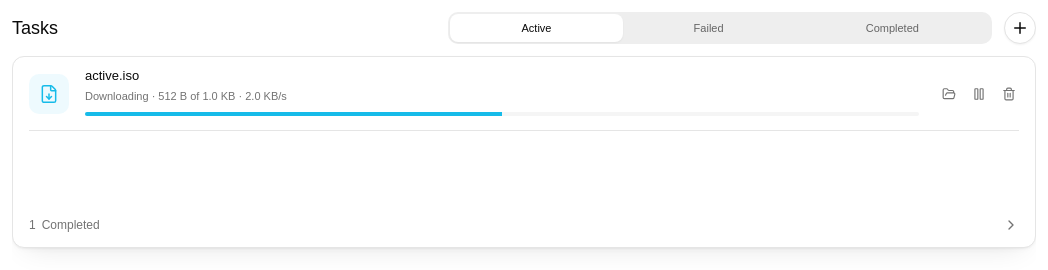
Scenario: ControlPanel task views › shows localized reveal failure copy without exposing the RPC error
Step 1. Click the button with test id "task-reveal-active-1" → [949, 94], box [935,80,963,108]
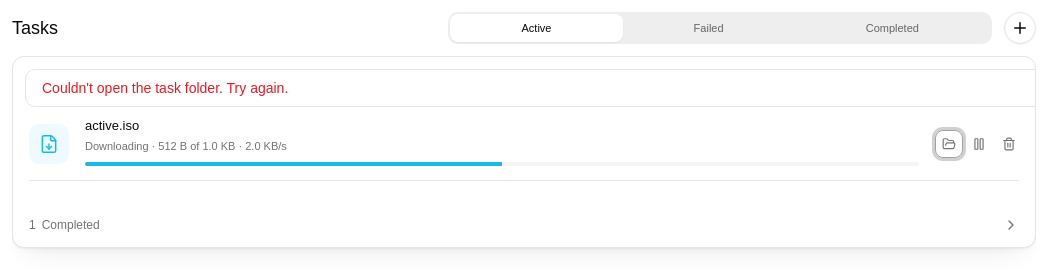
Now the text "Couldn't open the task folder. Try again." is shown, box [42,80,288,96]
